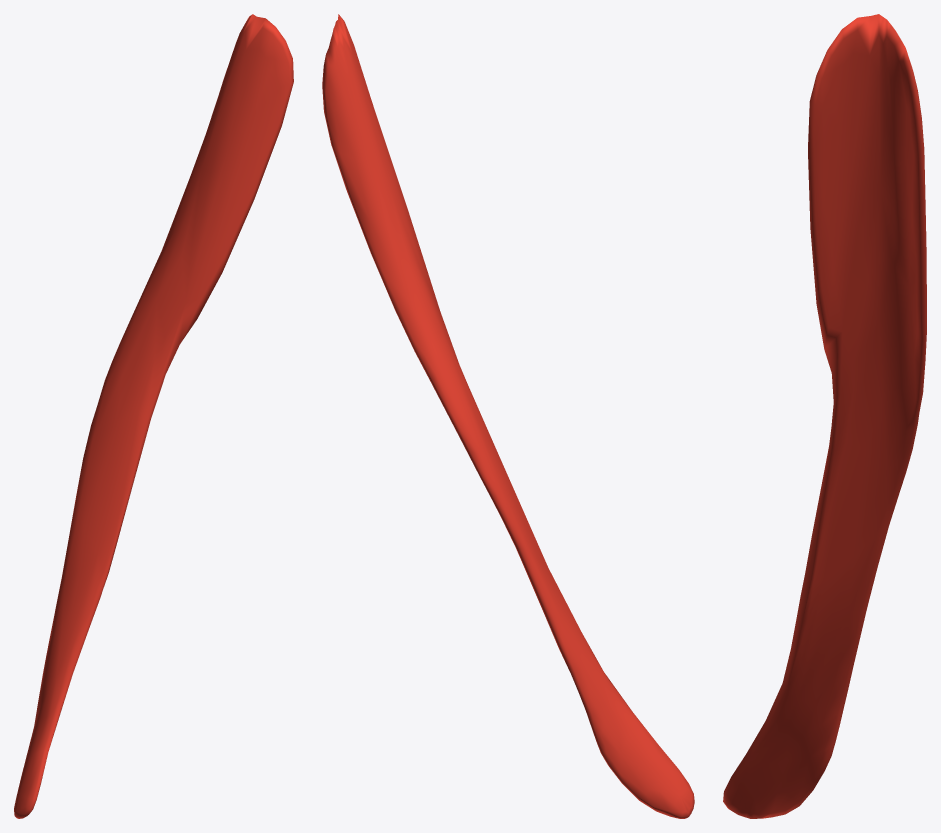
File: Extensor_carpi_radialis_longus_humeral_insertion_right.glb
3 views of the same model, side by side, from view 1: azimuth 30°, elevation 25°; view 2: azimuth 150°, elevation 25°; view 3: azimuth 270°, elevation 25° (orthographic). The views are drawn at different scales.
Parts seen in each view (by area): view 1: Extensor_carpi_radialis_longus_muscle-Humeral_insertion.r_Ge; view 2: Extensor_carpi_radialis_longus_muscle-Humeral_insertion.r_Ge; view 3: Extensor_carpi_radialis_longus_muscle-Humeral_insertion.r_Ge.
Boxes of the visible parts, left/top/right/bottom form: Extensor_carpi_radialis_longus_muscle-Humeral_insertion.r_Ge: left=14, top=14, right=293, bottom=818; Extensor_carpi_radialis_longus_muscle-Humeral_insertion.r_Ge: left=322, top=14, right=694, bottom=818; Extensor_carpi_radialis_longus_muscle-Humeral_insertion.r_Ge: left=723, top=14, right=926, bottom=818.
Bounding box in the file's own units: 0.0213 × 0.0476 × 0.0088.
